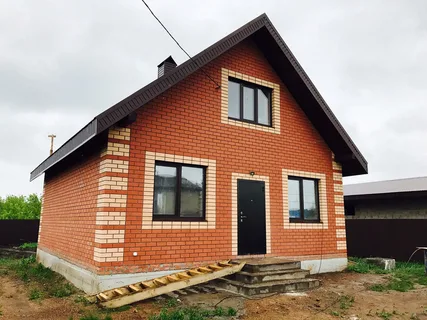private_hause: (49, 39, 353, 276)
